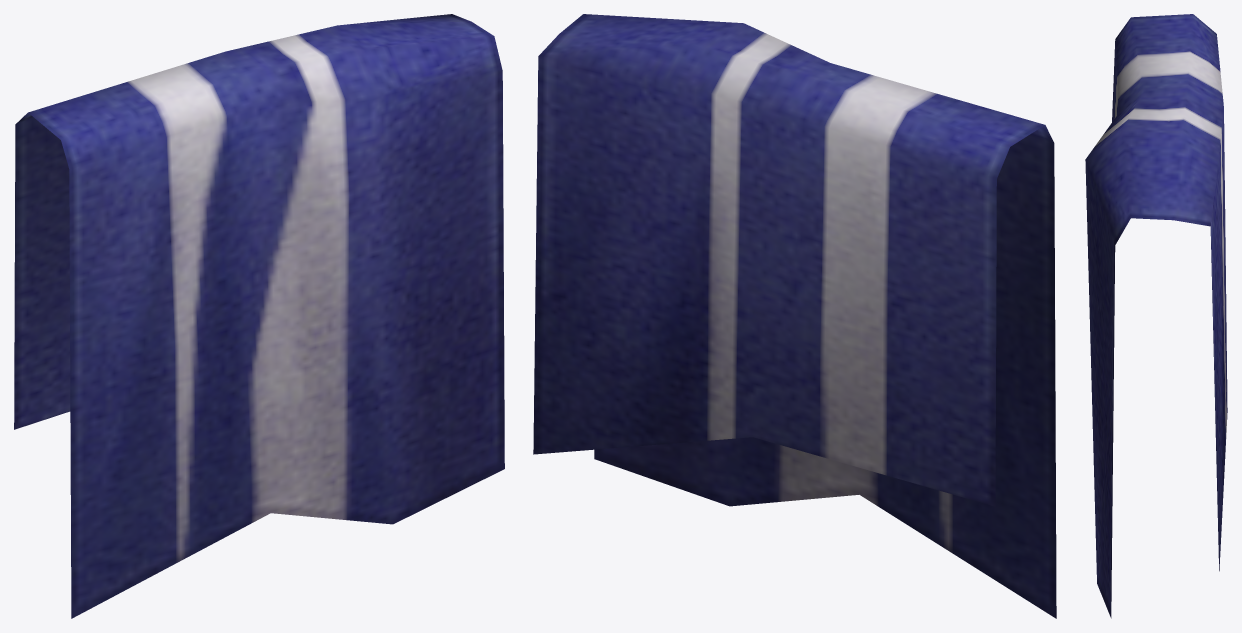
Rendered from ShenFuXiuXiShi_01_maojin_01.FBX.
The picture shows the model from 3 angles, left to right: view 1: azimuth 30°, elevation 25°; view 2: azimuth 150°, elevation 25°; view 3: azimuth 270°, elevation 25°; orthographic projection. The views are drawn at different scales.
Parts seen in each view (by area): view 1: ShenFuXiuXiShi_01_maojin_01; view 2: ShenFuXiuXiShi_01_maojin_01; view 3: ShenFuXiuXiShi_01_maojin_01.
Boxes of the visible parts, box(x1,y1,x2,y2) form: ShenFuXiuXiShi_01_maojin_01: box(14, 14, 504, 618); ShenFuXiuXiShi_01_maojin_01: box(533, 14, 1056, 618); ShenFuXiuXiShi_01_maojin_01: box(1085, 14, 1227, 618).
Bounding box in the file's own units: 264 × 287 × 79.5.
